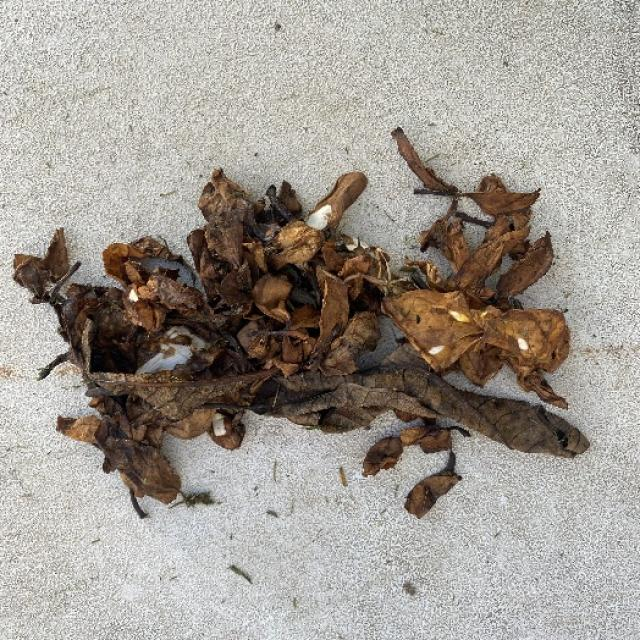organik: (34, 162, 565, 510)
